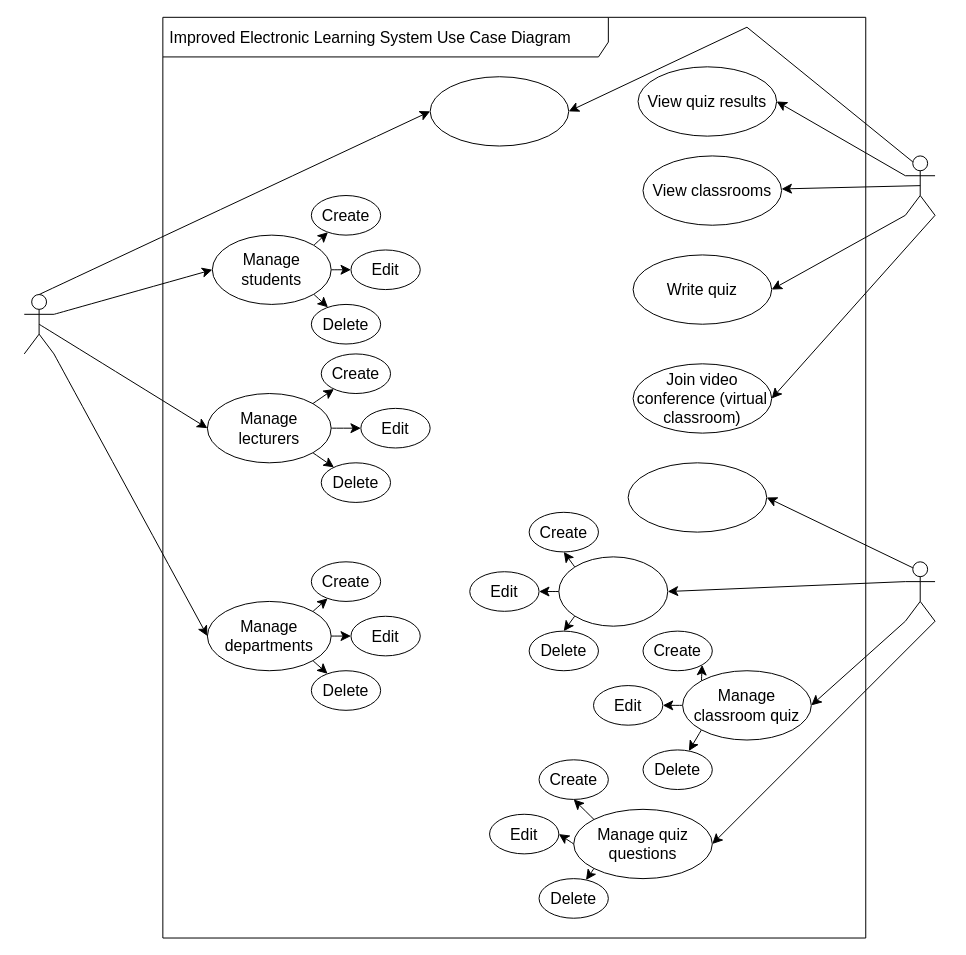
This 966x955 diagram has some shape labels left out. The shapes that lost their labels are listed below. From the top down, each one's centre as x and y in pixels, then its label:
At (x=499, y=111): "Login".
At (x=919, y=185): "Student".
At (x=38, y=324): "Admin".
At (x=697, y=497): "Start video conference (virtual classroom)".
At (x=613, y=591): "Manage classrooms".
At (x=919, y=591): "Lecturer".
